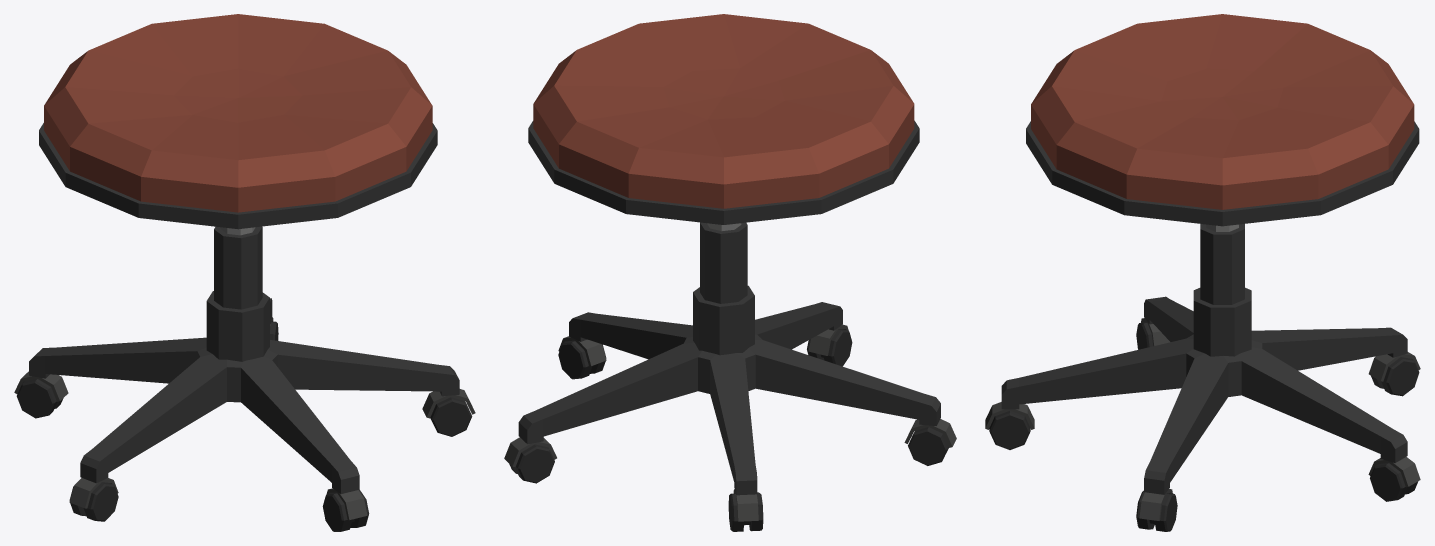
Rendered from SM_Props_Interior_Generic_Office_Chair_01.fbx.
3 renders of one model, left to right at view 1: azimuth 30°, elevation 25°; view 2: azimuth 150°, elevation 25°; view 3: azimuth 270°, elevation 25°, orthographic.
Parts seen in each view (by area): view 1: SM_Props_Interior_Generic_Office_Chair_01; view 2: SM_Props_Interior_Generic_Office_Chair_01; view 3: SM_Props_Interior_Generic_Office_Chair_01.
Part boxes in pixels (x1=…): SM_Props_Interior_Generic_Office_Chair_01: x1=14, y1=14, x2=475, y2=531; SM_Props_Interior_Generic_Office_Chair_01: x1=504, y1=14, x2=956, y2=531; SM_Props_Interior_Generic_Office_Chair_01: x1=985, y1=14, x2=1420, y2=531.
Bounding box in the file's own units: 58.18 × 50.21 × 55.33.
